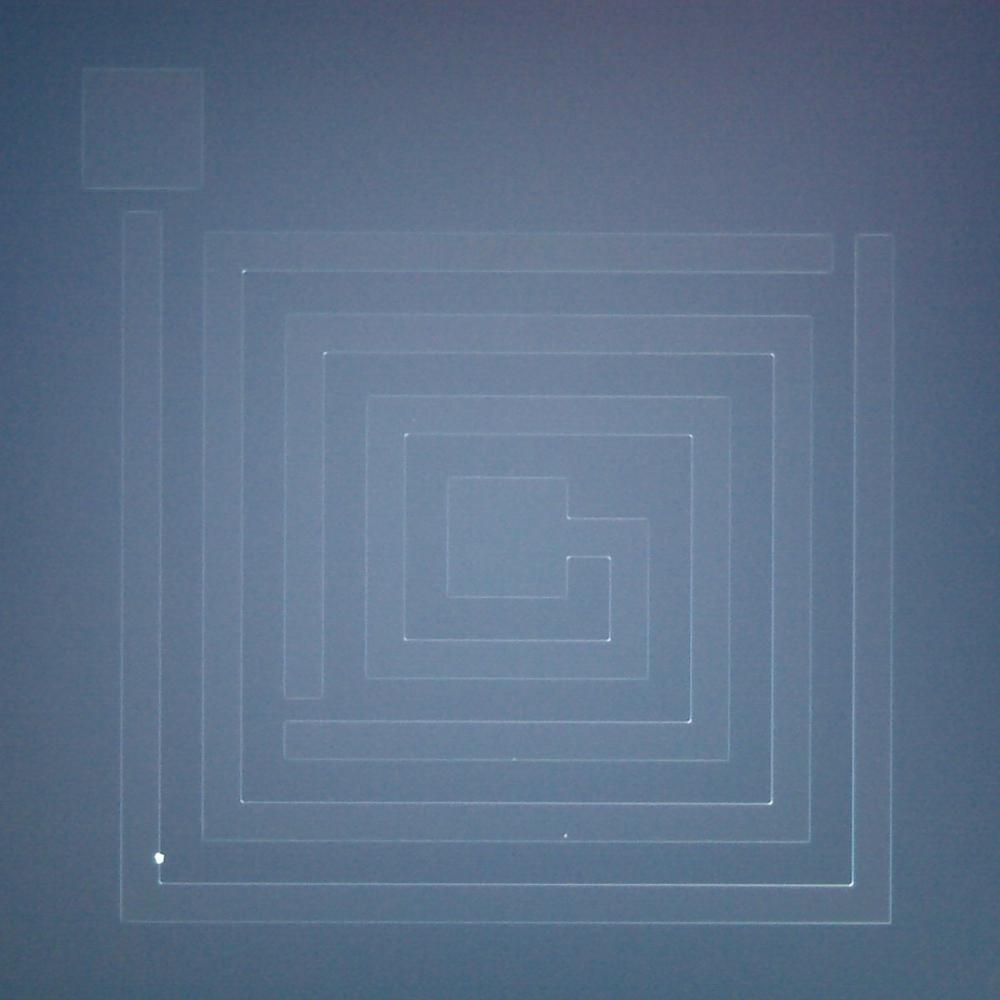short circuit: (805, 220, 879, 283), (110, 173, 172, 234), (275, 678, 336, 738)
spot: (148, 843, 177, 871)
